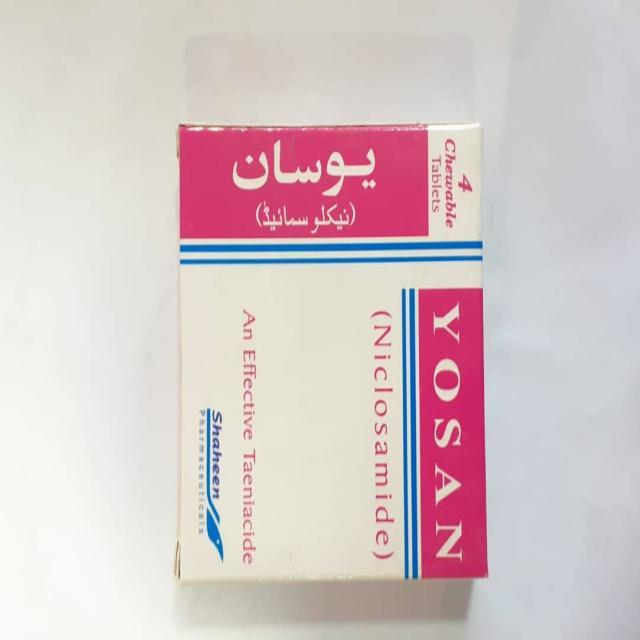drug-name: (428, 294, 470, 565)
